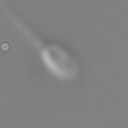normal: (1, 1, 46, 47)
